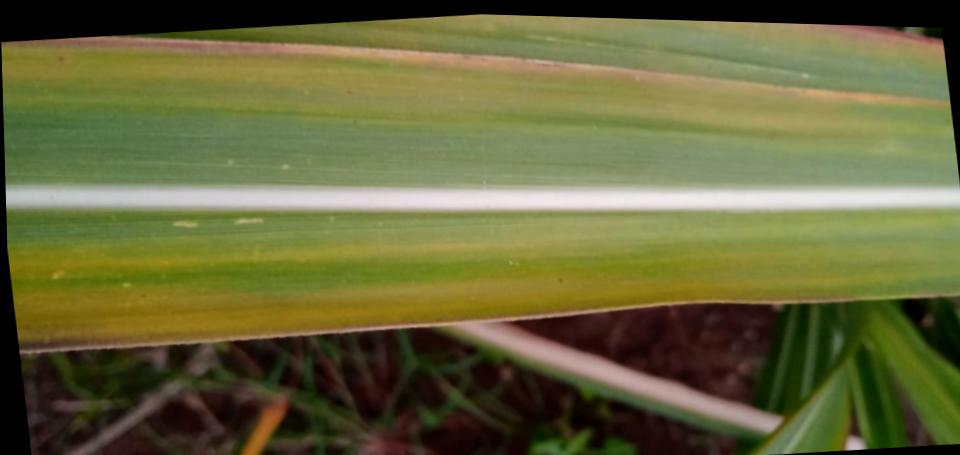Yellow: (1, 36, 950, 105), (14, 269, 769, 353), (793, 24, 944, 49)
